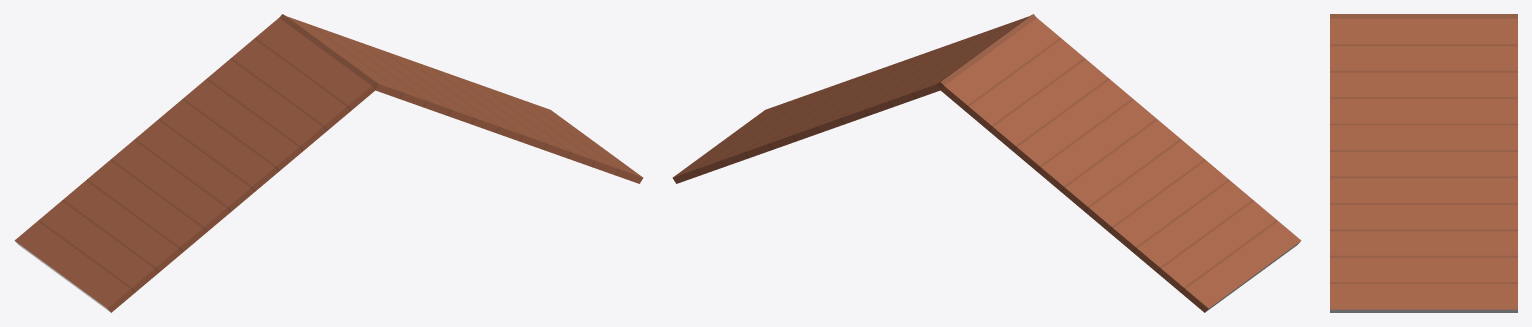
Rendered from Roof3_C5_01.fbx.
3 renders of one model, left to right at view 1: azimuth 30°, elevation 25°; view 2: azimuth 150°, elevation 25°; view 3: azimuth 270°, elevation 25°, orthographic.
Visible parts, largest first — view 1: Roof3_C5_01; view 2: Roof3_C5_01; view 3: Roof3_C5_01.
Part boxes in pixels (x1,y1,x2,y2): Roof3_C5_01: (14, 14, 643, 312); Roof3_C5_01: (672, 14, 1301, 312); Roof3_C5_01: (1330, 14, 1517, 312).
Size of the model in its own units: 833 by 247 by 250.
